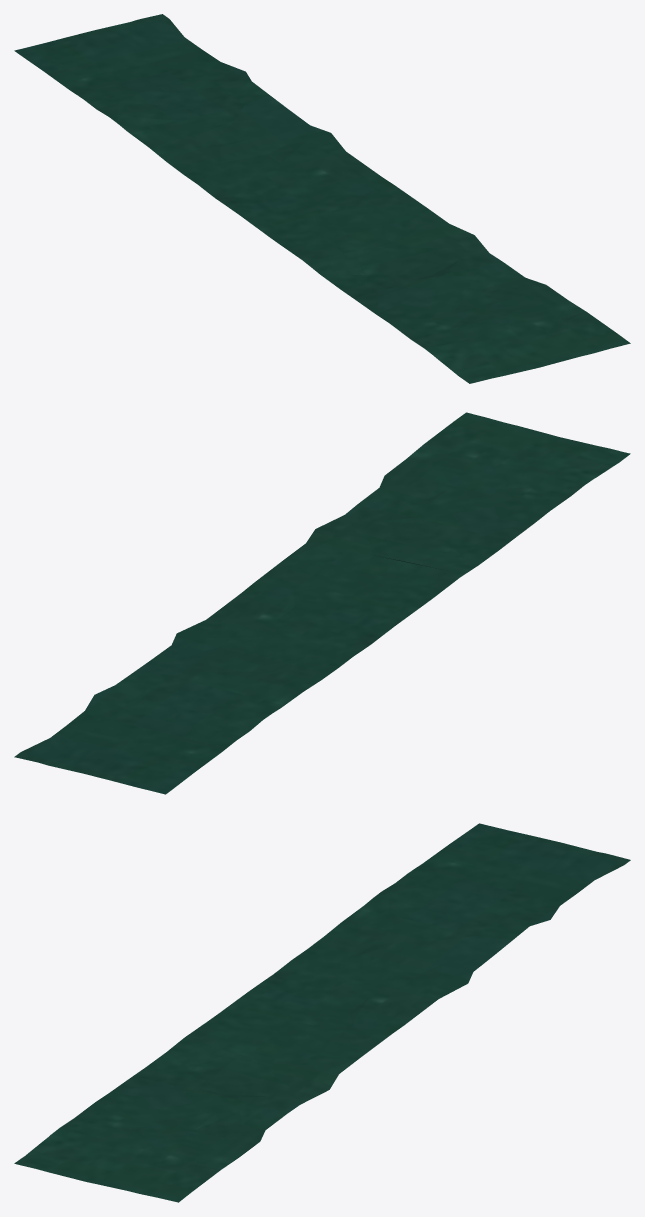
3 renders of one model, top to bottom at view 1: azimuth 30°, elevation 25°; view 2: azimuth 150°, elevation 25°; view 3: azimuth 330°, elevation 25°, orthographic. The views are drawn at different scales.
Bounding box in the file's own units: 21.34 × 0.607 × 104.
Materials: 1 (1 with a texture image).
